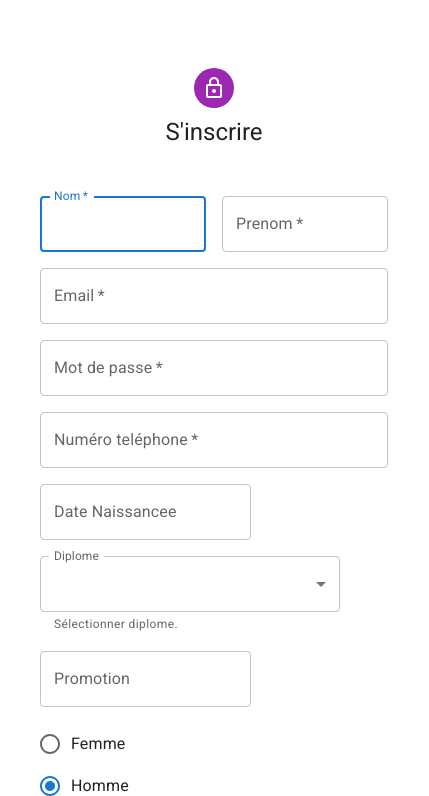
it: Register Component › should display validation error for password requirements
In the password field labelled "Mot de passe *": (214, 368) [40,340,388,396], type "pass"
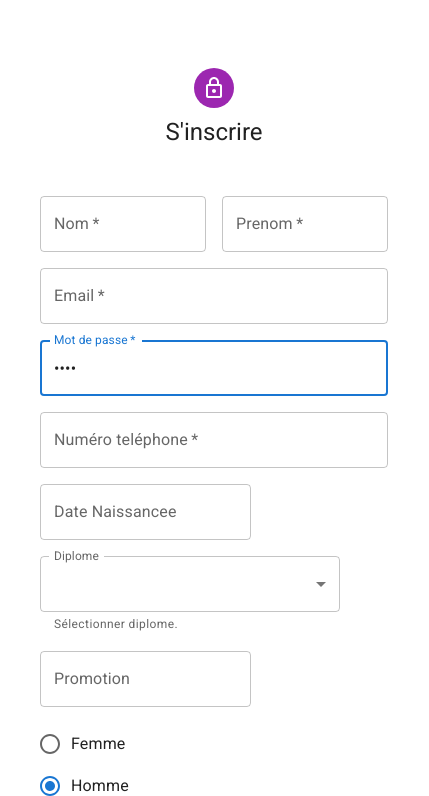
Scroll
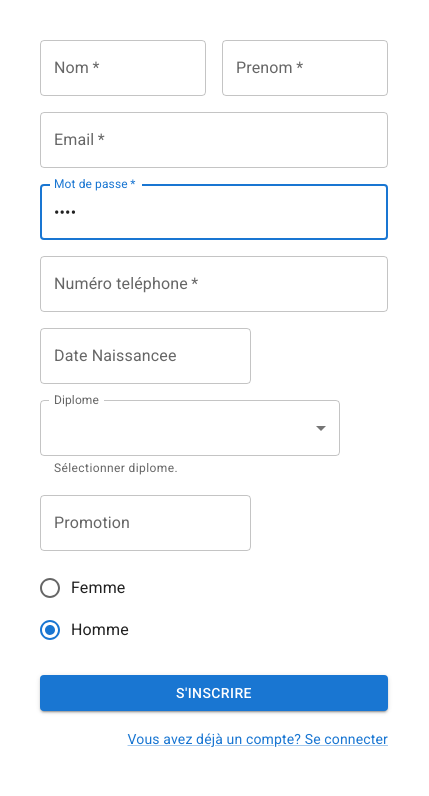
Submit the form
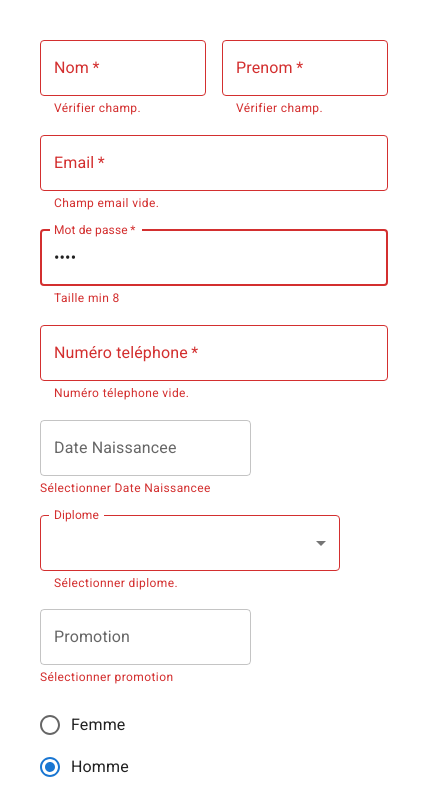
Result: the text "Taille min 8" is shown at [54,291,120,305]
